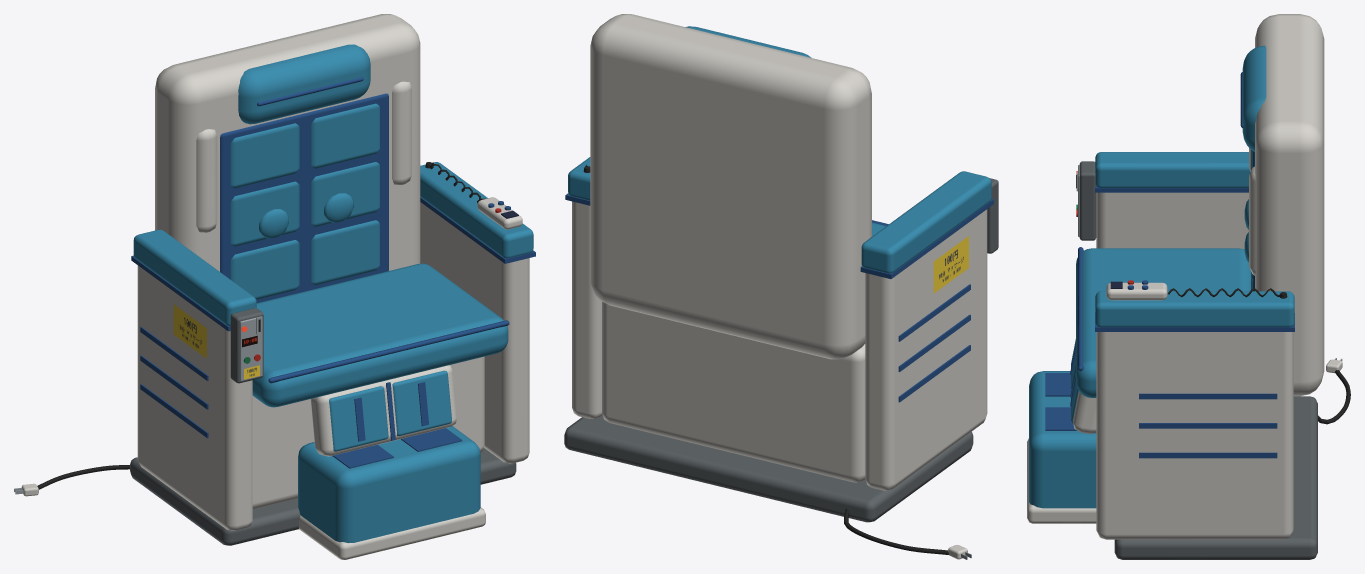
The picture shows the model from 3 angles, left to right: view 1: azimuth 30°, elevation 25°; view 2: azimuth 150°, elevation 25°; view 3: azimuth 270°, elevation 25°; orthographic projection. The views are drawn at different scales.
Visible parts, largest first — view 1: Coin massage chair, Massage chair back, Massage chair seat, Massage chair rollers, Massage chair coin box, Massage chair remote, Price sticker, Massage chair coin box (metal), Massage chair cord; view 2: Coin massage chair, Massage chair back, Price sticker, Massage chair cord, Massage chair coin box; view 3: Coin massage chair, Massage chair back, Massage chair seat, Massage chair remote, Massage chair coin box, Massage chair cord.
Boxes of the visible parts, box(x1,y1,x2,y2) form: Coin massage chair: box(130, 162, 535, 559); Massage chair back: box(155, 14, 420, 302); Massage chair seat: box(252, 263, 509, 407); Massage chair rollers: box(259, 193, 353, 238); Massage chair coin box: box(230, 308, 263, 383); Massage chair remote: box(425, 162, 522, 229); Price sticker: box(173, 304, 206, 358); Massage chair coin box (metal): box(240, 316, 262, 381); Massage chair cord: box(21, 465, 129, 496); Coin massage chair: box(564, 157, 993, 522); Massage chair back: box(590, 14, 871, 359); Price sticker: box(933, 236, 968, 293); Massage chair cord: box(844, 508, 967, 559); Massage chair coin box: box(987, 178, 998, 253); Coin massage chair: box(1027, 152, 1317, 559); Massage chair back: box(1240, 14, 1324, 396); Massage chair seat: box(1076, 247, 1250, 397); Massage chair remote: box(1106, 280, 1287, 300); Massage chair coin box: box(1076, 161, 1096, 240); Massage chair cord: box(1318, 359, 1350, 424).
Size of the model in its own units: 1.18 by 1.14 by 0.7956.
Materials: 6 (3 with a texture image).
